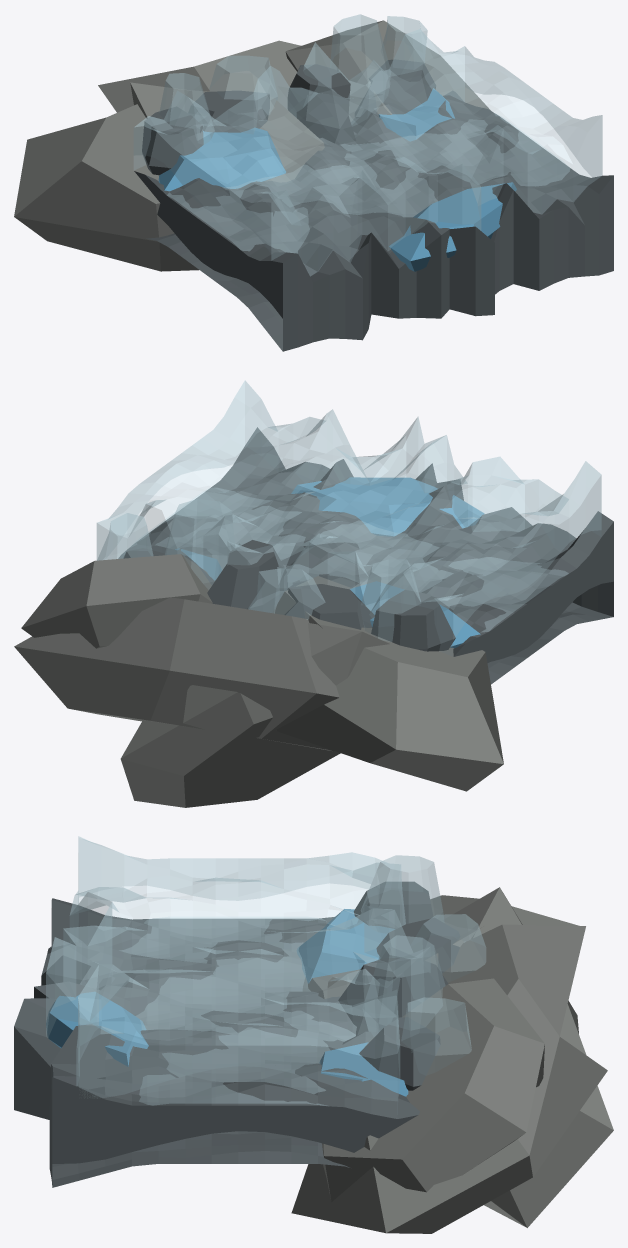
Rendered from ice_bridge_right_v11_smooth_clear.glb.
The picture shows the model from 3 angles, top to bottom: view 1: azimuth 30°, elevation 25°; view 2: azimuth 150°, elevation 25°; view 3: azimuth 270°, elevation 25°; orthographic projection. The views are drawn at different scales.
Visible parts, largest first — view 1: eroded_rock_bed, continuous_fractured_ice_shelf, large_eroded_bank_mass_00, large_eroded_bank_mass_02, large_eroded_bank_mass_01, compressed_ice_in_rock_00, fractured_ice_projection_02, compressed_ice_in_rock_01, irregular_rock_transition_02, irregular_rock_transition_00, irregular_rock_transition_03, irregular_rock_transition_01 (+5 smaller); view 2: continuous_fractured_ice_shelf, eroded_rock_bed, large_eroded_bank_mass_01, large_eroded_bank_mass_00, large_eroded_bank_mass_03, large_eroded_bank_mass_02, compressed_ice_in_rock_01, fractured_ice_projection_02, irregular_rock_transition_02, irregular_rock_transition_00, fractured_ice_projection_00, fractured_ice_projection_01 (+4 smaller); view 3: continuous_fractured_ice_shelf, eroded_rock_bed, large_eroded_bank_mass_01, large_eroded_bank_mass_02, large_eroded_bank_mass_03, irregular_rock_transition_02, fractured_ice_projection_02, fractured_ice_projection_03, fractured_ice_projection_00, compressed_ice_in_rock_00, compressed_ice_in_rock_01, irregular_rock_transition_03 (+5 smaller).
Part boxes in pixels (bbox=[...]): eroded_rock_bed: bbox=[134, 90, 613, 351]; continuous_fractured_ice_shelf: bbox=[133, 29, 602, 276]; large_eroded_bank_mass_00: bbox=[14, 89, 324, 271]; large_eroded_bank_mass_02: bbox=[285, 20, 490, 121]; large_eroded_bank_mass_01: bbox=[98, 40, 301, 112]; compressed_ice_in_rock_00: bbox=[158, 127, 285, 191]; fractured_ice_projection_02: bbox=[330, 14, 390, 126]; compressed_ice_in_rock_01: bbox=[389, 182, 516, 271]; irregular_rock_transition_02: bbox=[287, 64, 356, 144]; irregular_rock_transition_00: bbox=[142, 106, 203, 175]; irregular_rock_transition_03: bbox=[355, 59, 435, 118]; irregular_rock_transition_01: bbox=[188, 90, 269, 132]; continuous_fractured_ice_shelf: bbox=[96, 380, 601, 656]; eroded_rock_bed: bbox=[118, 427, 613, 684]; large_eroded_bank_mass_01: bbox=[14, 597, 339, 751]; large_eroded_bank_mass_00: bbox=[272, 576, 503, 791]; large_eroded_bank_mass_03: bbox=[120, 623, 389, 807]; large_eroded_bank_mass_02: bbox=[21, 554, 212, 648]; compressed_ice_in_rock_01: bbox=[291, 477, 484, 536]; fractured_ice_projection_02: bbox=[165, 499, 235, 589]; irregular_rock_transition_02: bbox=[207, 540, 287, 612]; irregular_rock_transition_00: bbox=[371, 590, 455, 651]; fractured_ice_projection_00: bbox=[360, 559, 420, 641]; fractured_ice_projection_01: bbox=[248, 568, 325, 619]; continuous_fractured_ice_shelf: bbox=[46, 836, 430, 1105]; eroded_rock_bed: bbox=[14, 898, 419, 1187]; large_eroded_bank_mass_01: bbox=[291, 924, 607, 1233]; large_eroded_bank_mass_02: bbox=[322, 978, 544, 1201]; large_eroded_bank_mass_03: bbox=[443, 887, 613, 1227]; irregular_rock_transition_02: bbox=[338, 958, 448, 1035]; fractured_ice_projection_02: bbox=[365, 935, 445, 1036]; fractured_ice_projection_03: bbox=[401, 997, 471, 1075]; fractured_ice_projection_00: bbox=[361, 855, 444, 925]; compressed_ice_in_rock_00: bbox=[296, 909, 394, 983]; compressed_ice_in_rock_01: bbox=[46, 992, 148, 1066]; irregular_rock_transition_03: bbox=[359, 1017, 440, 1090].
Size of the model in its own units: 2.74 by 1.39 by 2.71.
